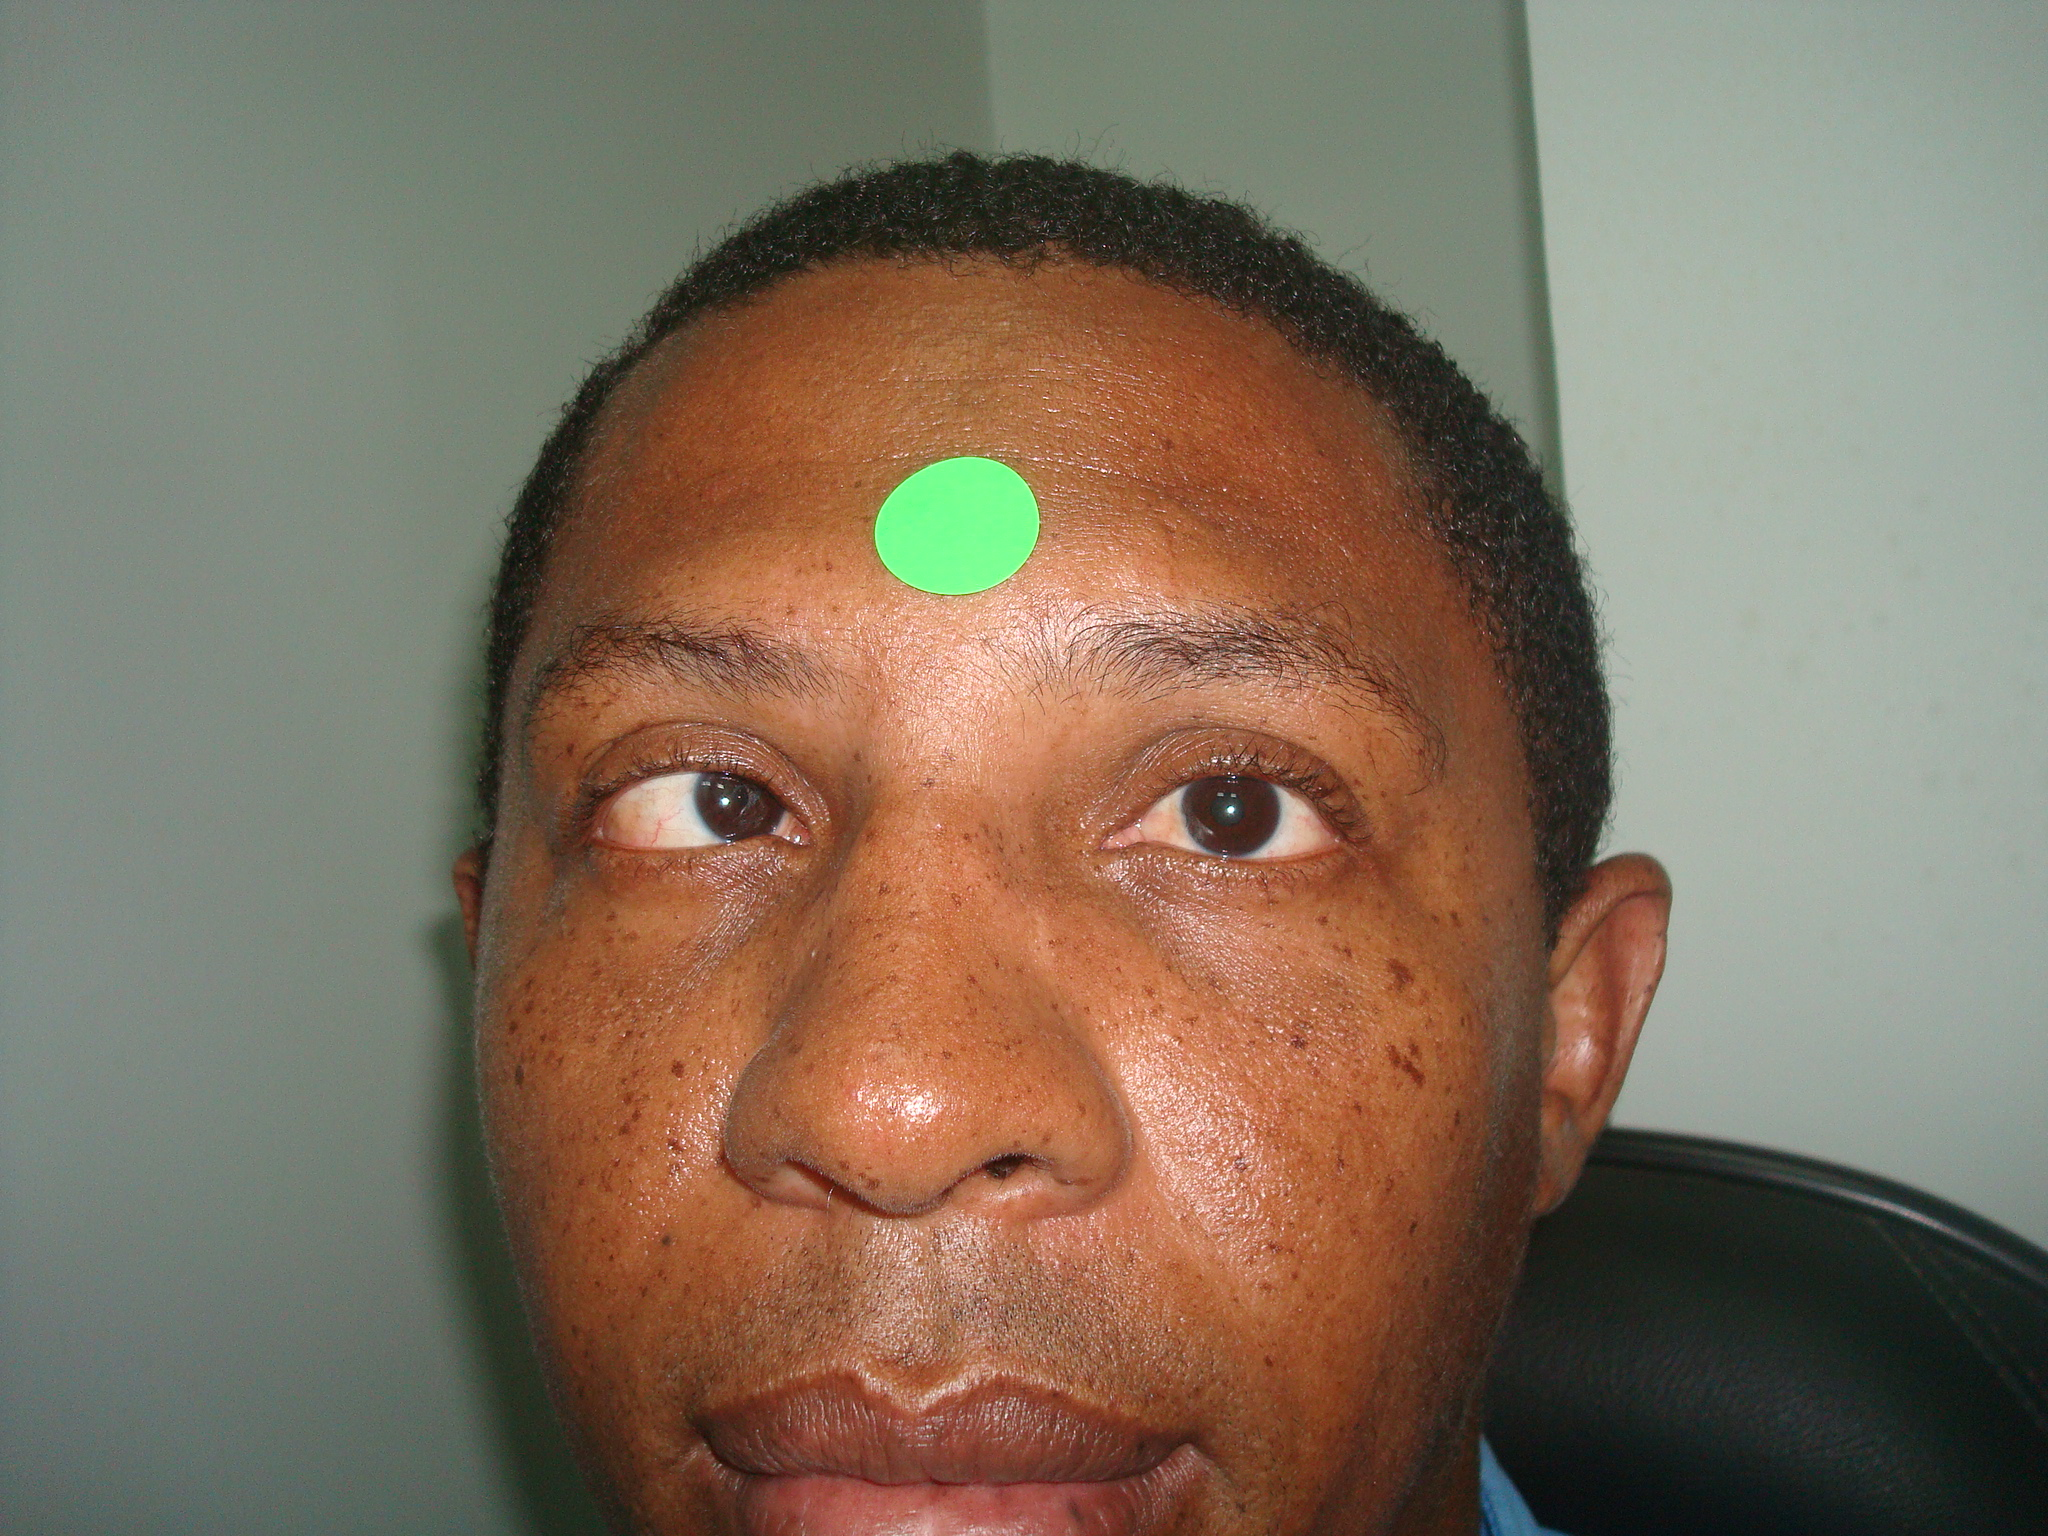flash: (1222, 802, 1238, 816), (719, 795, 732, 808)
limbo: (1179, 765, 1277, 852), (703, 753, 792, 836)
